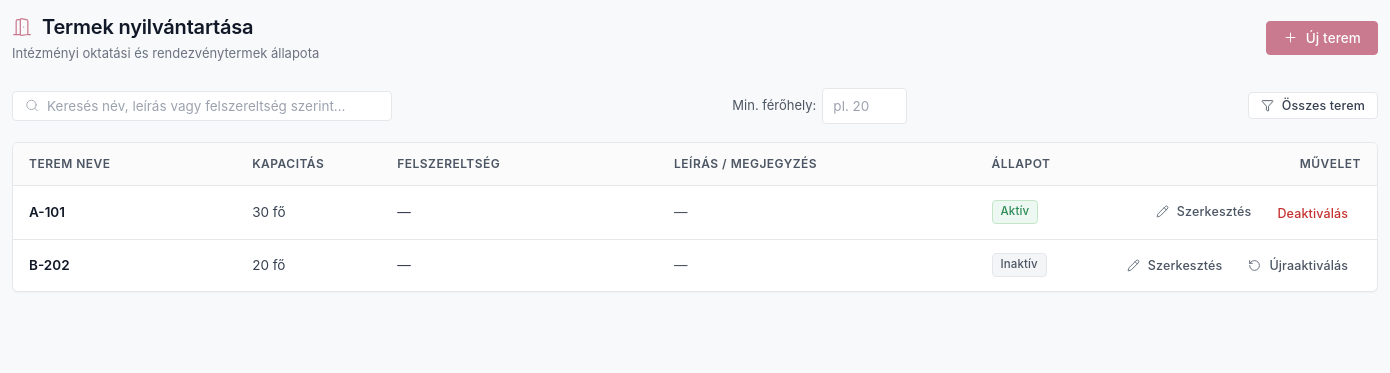
Scenario: RoomsPage (admin) › reactivates an inactive room
The width and height of the screenshot is (1390, 373).
Click the button "Újraaktiválás" at (1298, 265), box [1235,252,1361,278]
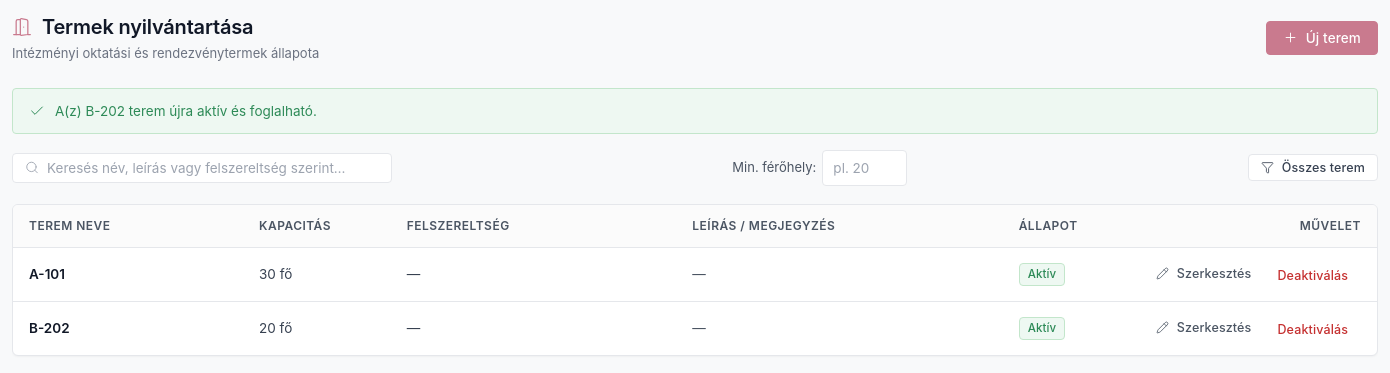
expect the text "A(z) B-202 terem újra aktív és foglalható." is shown: met, box [55,100,317,121]
expect the text "Inaktív" is gone: met
